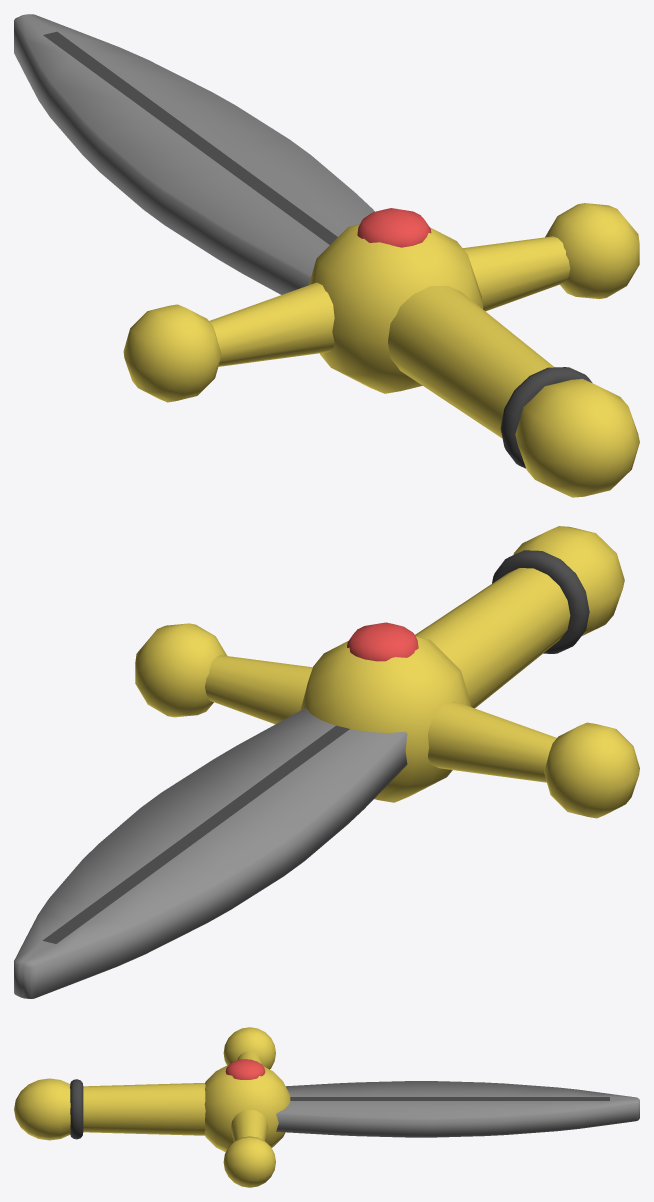
The model's file is Sword2.fbx.
3 renders of one model, top to bottom at view 1: azimuth 30°, elevation 25°; view 2: azimuth 150°, elevation 25°; view 3: azimuth 270°, elevation 25°, orthographic. The views are drawn at different scales.
Parts seen in each view (by area): view 1: Sphere.002; view 2: Sphere.002; view 3: Sphere.002.
Part boxes in pixels (box(x1,y1,x2,y2)): Sphere.002: box(14, 14, 639, 497); Sphere.002: box(14, 526, 639, 998); Sphere.002: box(14, 1027, 639, 1187).
Bounding box in the file's own units: 353 × 111 × 715.
